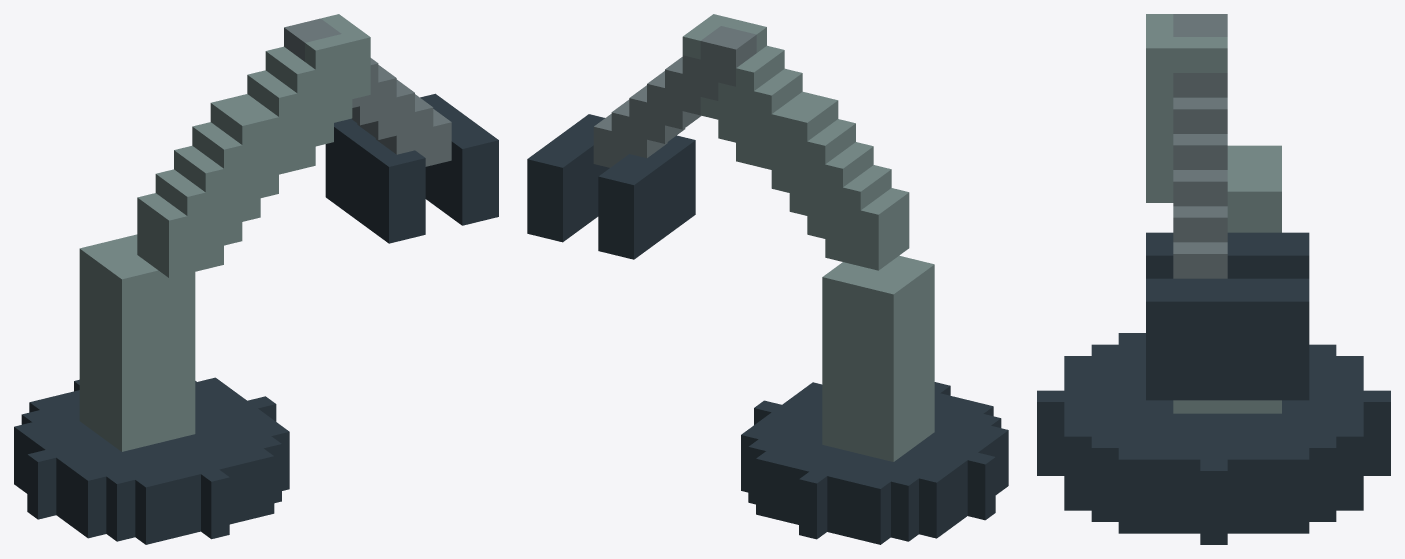
The model's file is robotics-01.glb.
The picture shows the model from 3 angles, left to right: view 1: azimuth 30°, elevation 25°; view 2: azimuth 150°, elevation 25°; view 3: azimuth 270°, elevation 25°; orthographic projection. The views are drawn at different scales.
Visible parts, largest first — view 1: Robot arm; view 2: Robot arm; view 3: Robot arm.
Boxes of the visible parts, x1=… form: Robot arm: x1=14, y1=14, x2=498, y2=544; Robot arm: x1=527, y1=14, x2=1008, y2=544; Robot arm: x1=1037, y1=14, x2=1390, y2=544.
Size of the model in its own units: 1.92 by 1.76 by 1.04.
